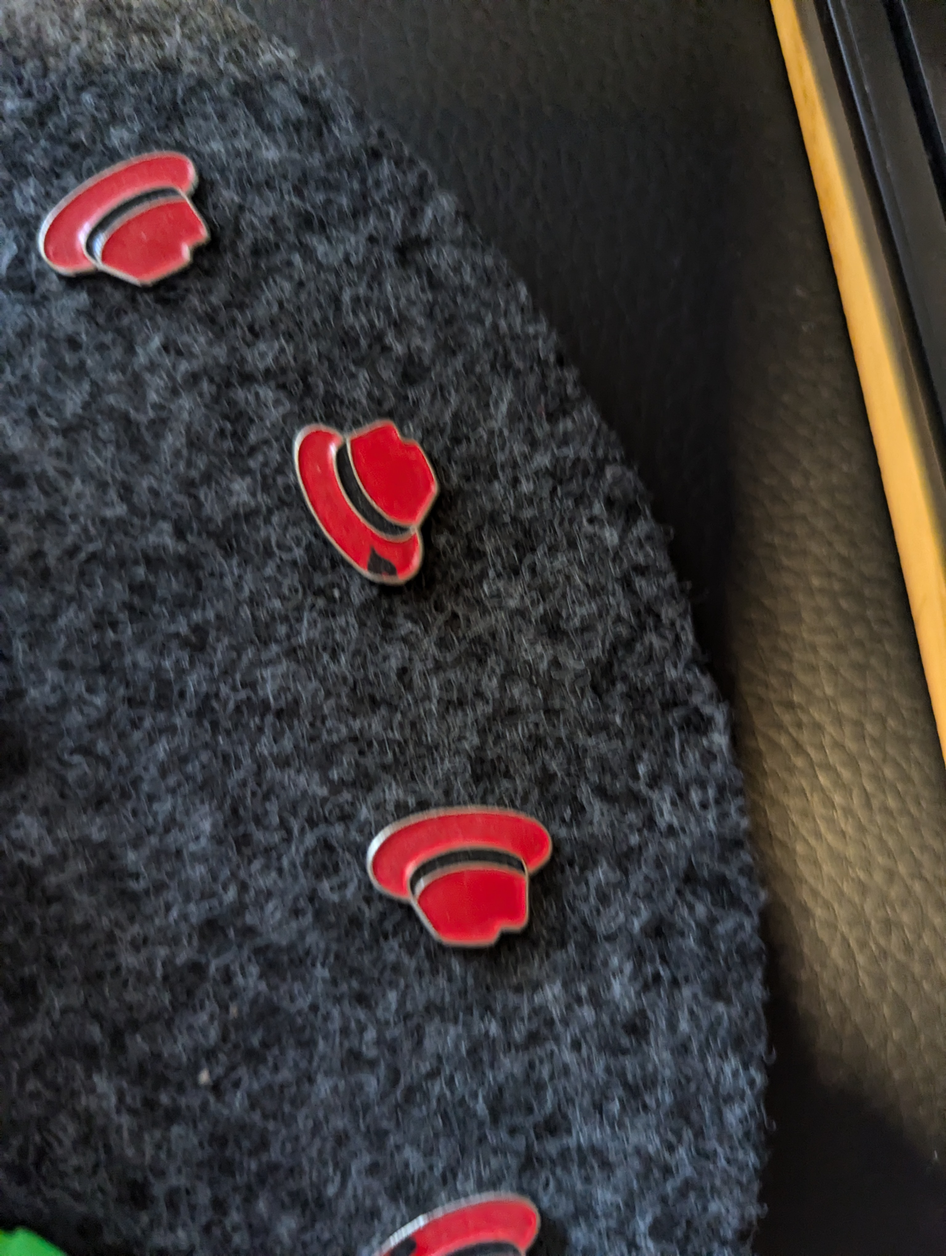Red-Hat: (266, 373, 457, 618), (22, 132, 231, 324), (332, 794, 578, 956)
Scratch: (358, 535, 405, 604)
